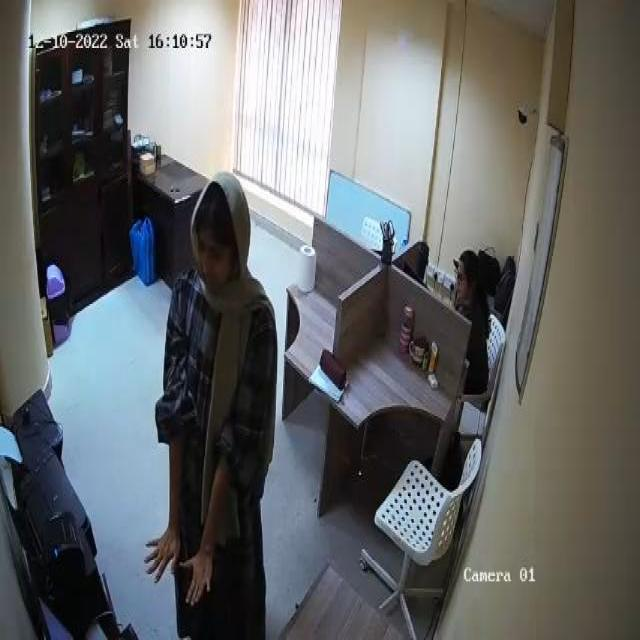bare_hand: (143, 532, 180, 587), (182, 544, 211, 613)
